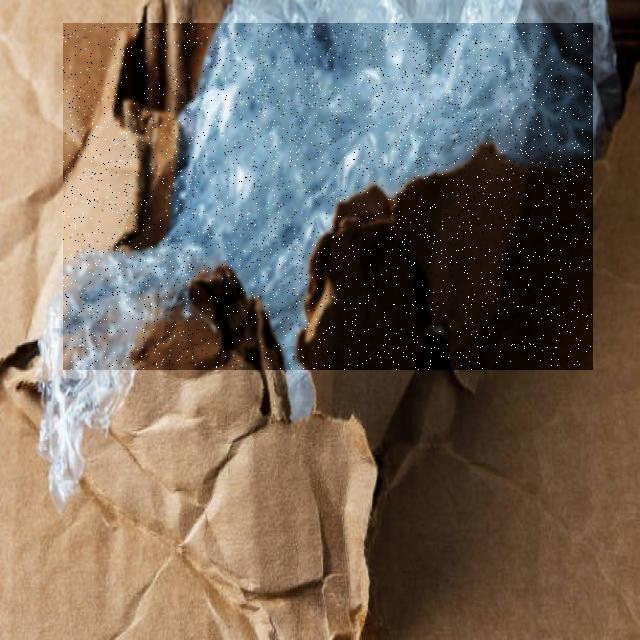leakage: (63, 23, 592, 370)
